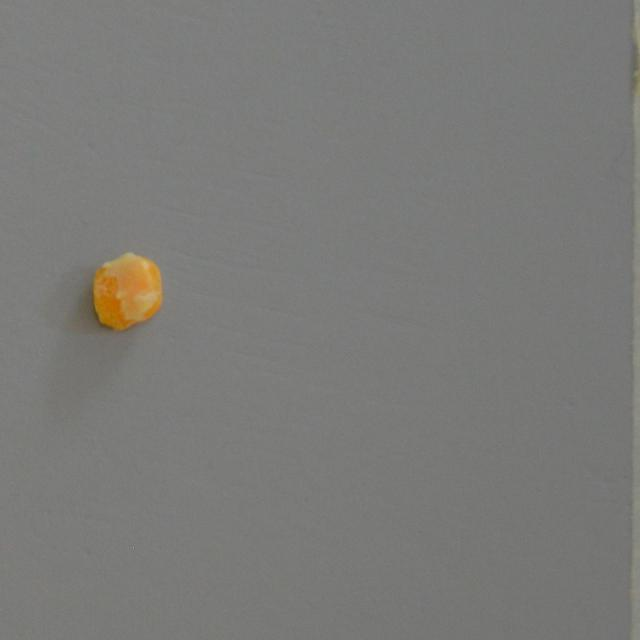pelicula: (90, 249, 165, 334)
